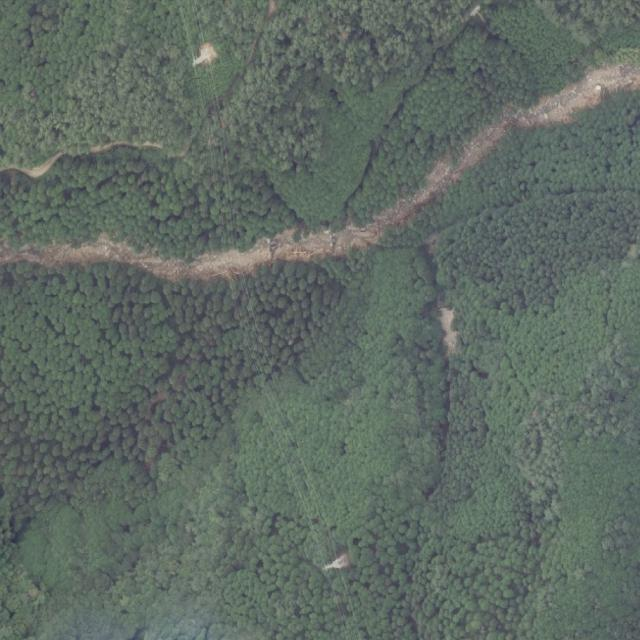landslide: (0, 65, 640, 280)
